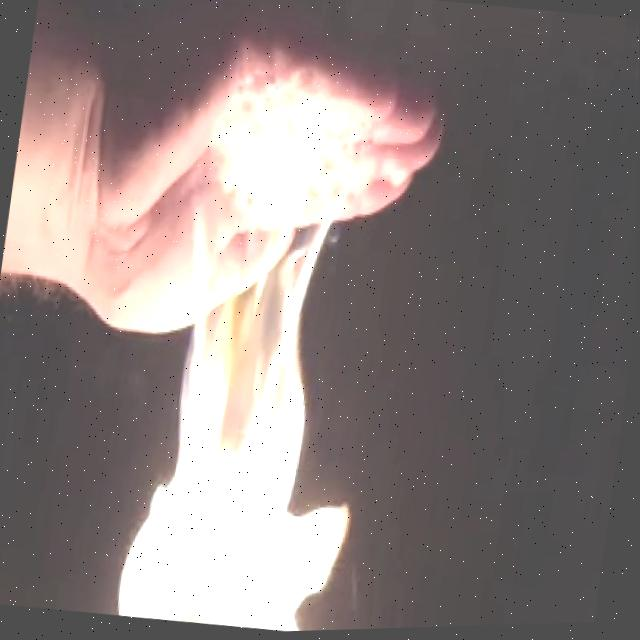Fire: (96, 100, 411, 638)
